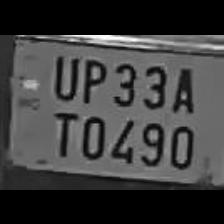0: (166, 119, 196, 167), (77, 108, 105, 158)
3: (107, 55, 137, 106), (137, 57, 167, 107)
4: (107, 111, 133, 161)
9: (137, 116, 163, 164)
A: (167, 60, 195, 114)
P: (77, 52, 107, 104)
T: (47, 105, 77, 156)
U: (48, 50, 78, 100)
